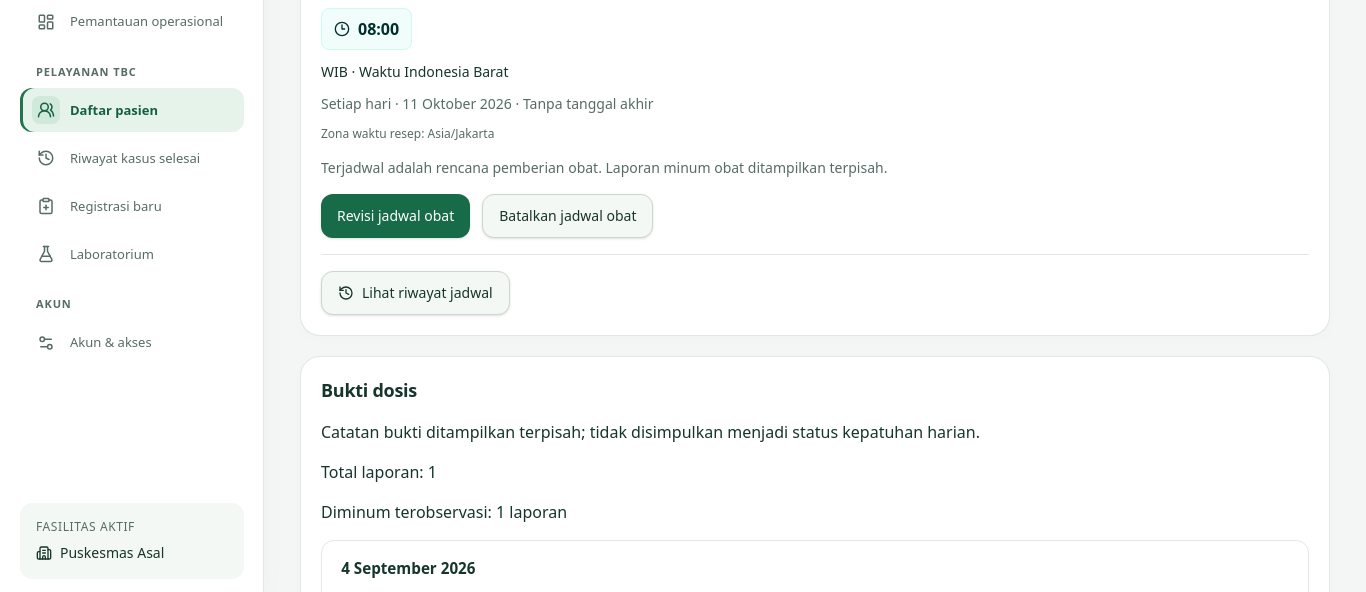
Test case: 409 conflict discards unsafe edit and refetches without resubmitting
(page scrolled)
Click the button "Revisi jadwal obat" at [396, 216], box [321,194,470,238]
(page scrolled)
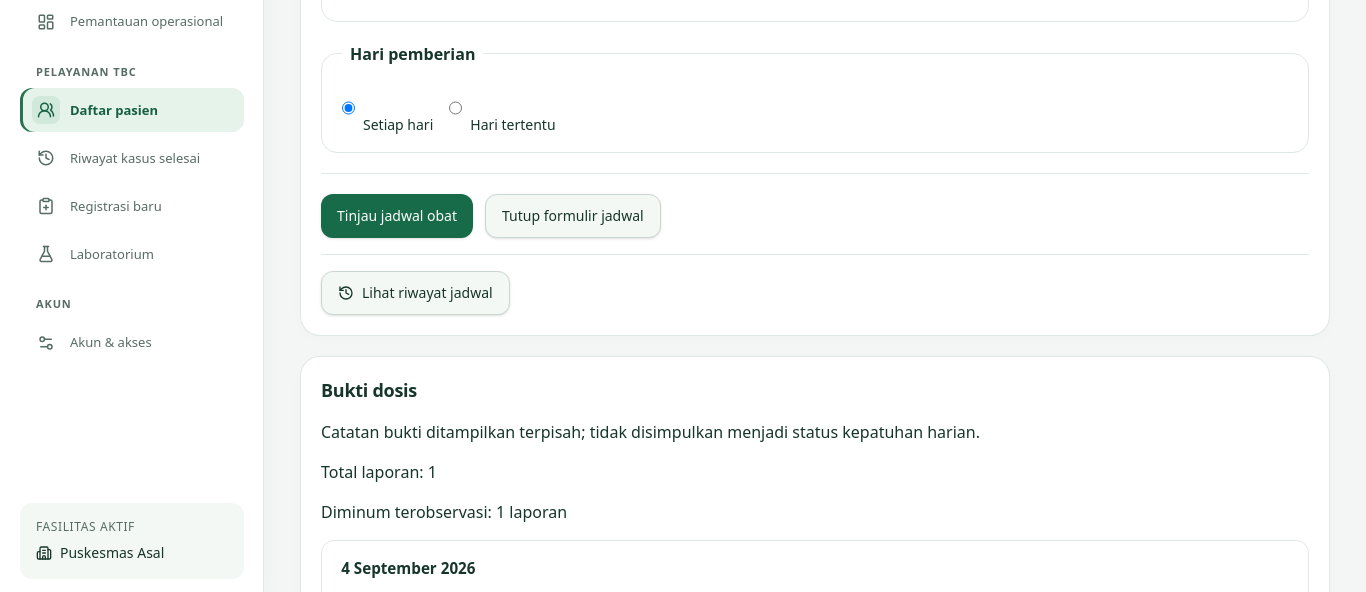
Click the button "Tinjau jadwal obat" at [397, 216], box [321,194,473,238]
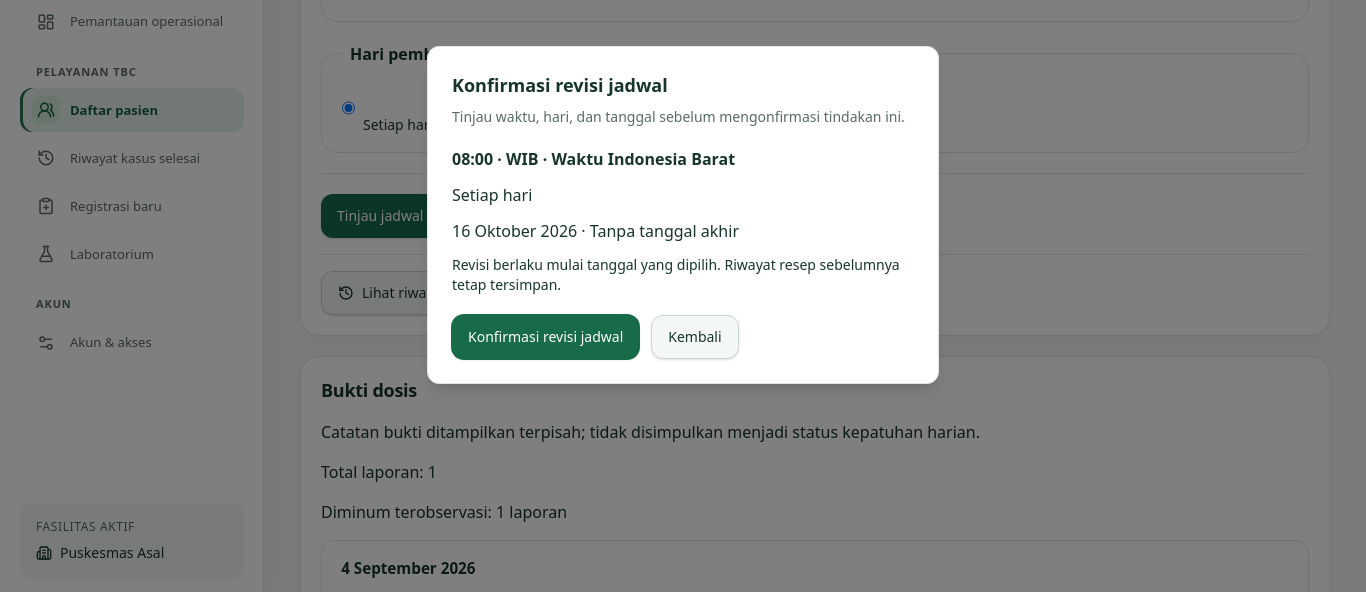
Click the button "Konfirmasi revisi jadwal" at [546, 337], box [452,315,639,359]
(page scrolled)
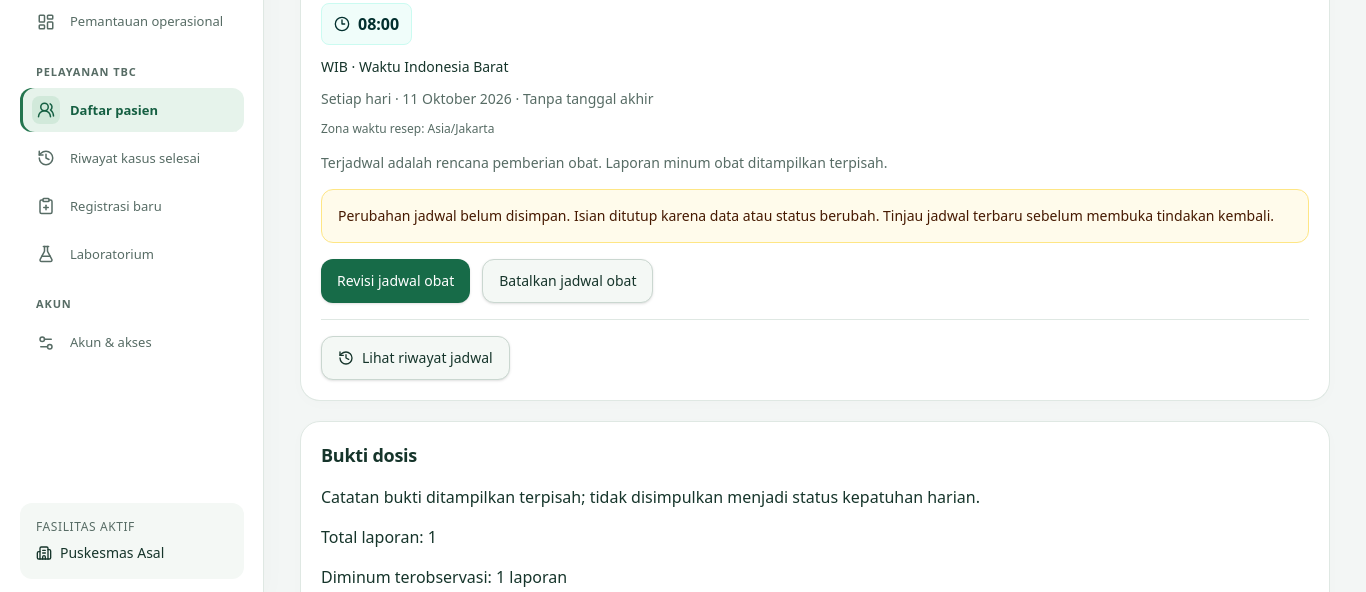
Check: the text "Perubahan jadwal belum disimpan" is shown, box [338,206,1274,225]
